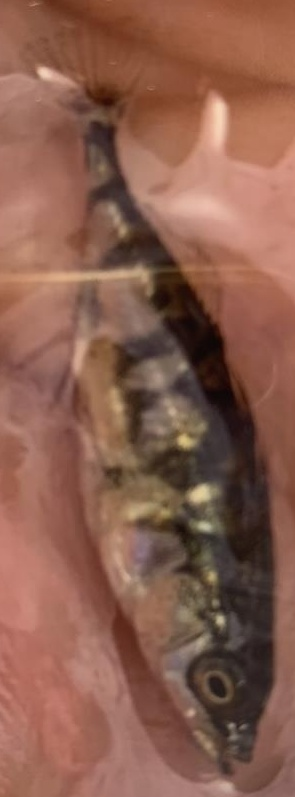Gasterosteus aculeatus: (20, 20, 275, 777)
